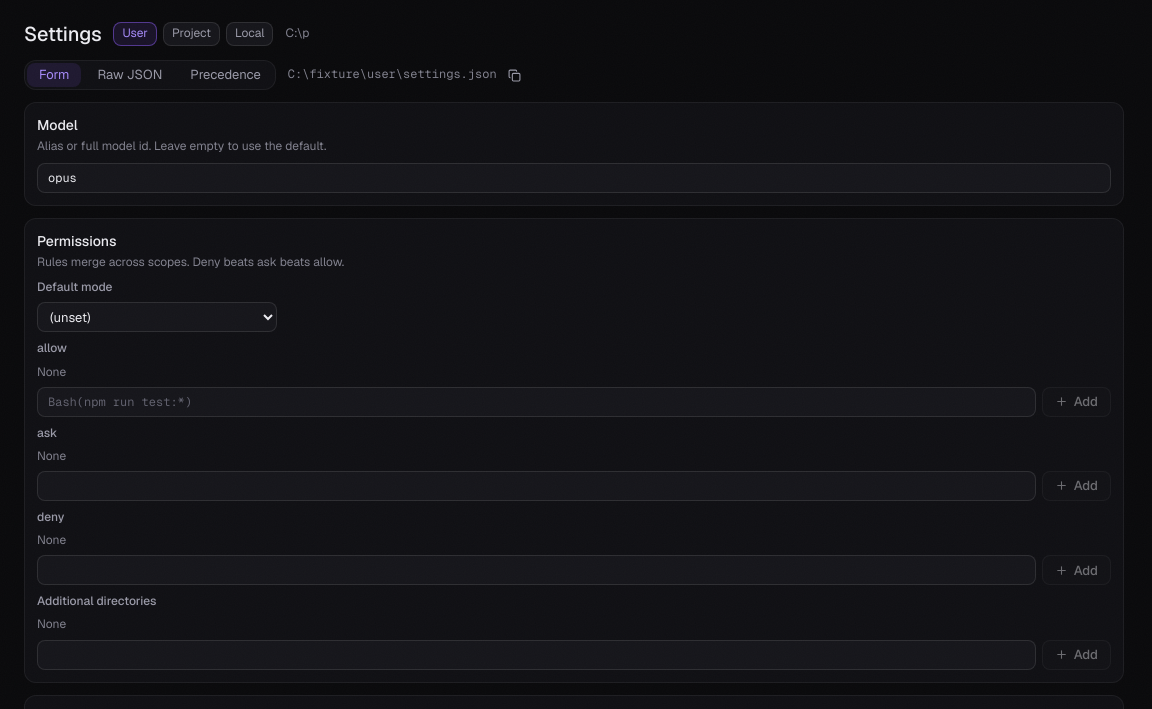
Test: precedence tab › shows an overridden model, merged permission rules with source chips and an ignored defaultMode
The width and height of the screenshot is (1152, 709).
Click the tab "Precedence": (226, 75) 178,63 -> 273,87
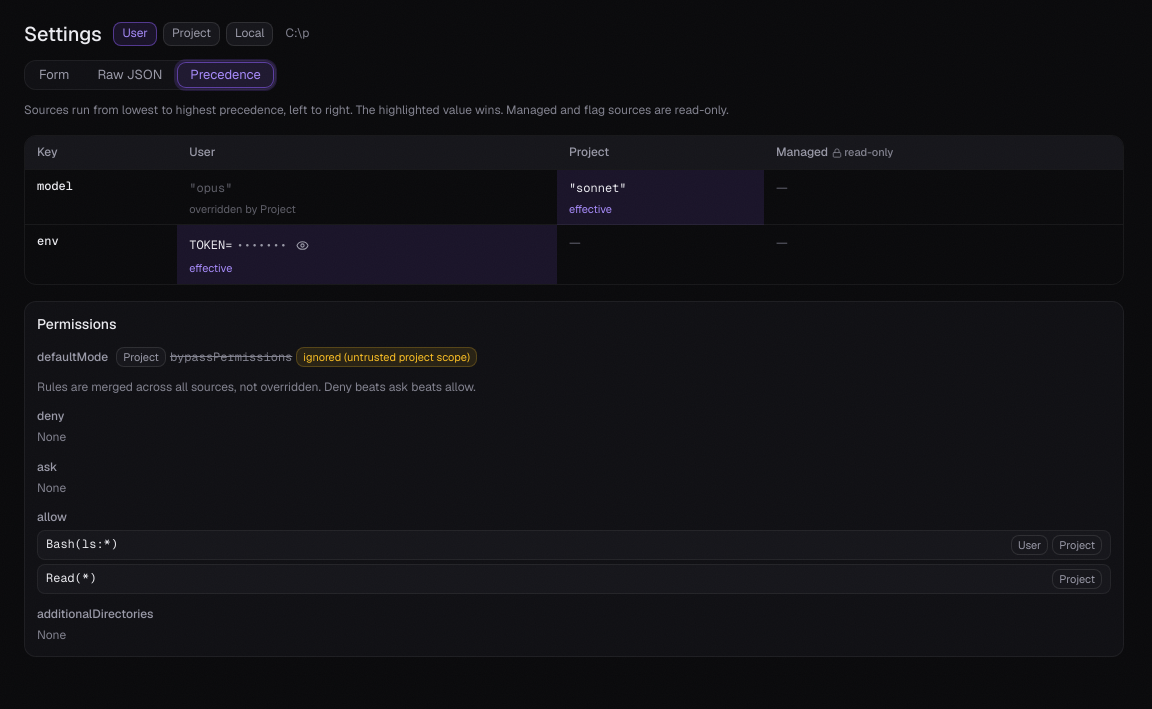
Result: the cell "\"opus\" overridden by Project" is shown at 177,170 -> 557,225
Result: the list item "Bash(ls:*) User Project" is shown at 37,530 -> 1111,560
Result: the list item "Read(*) Project" is shown at 37,564 -> 1111,594
